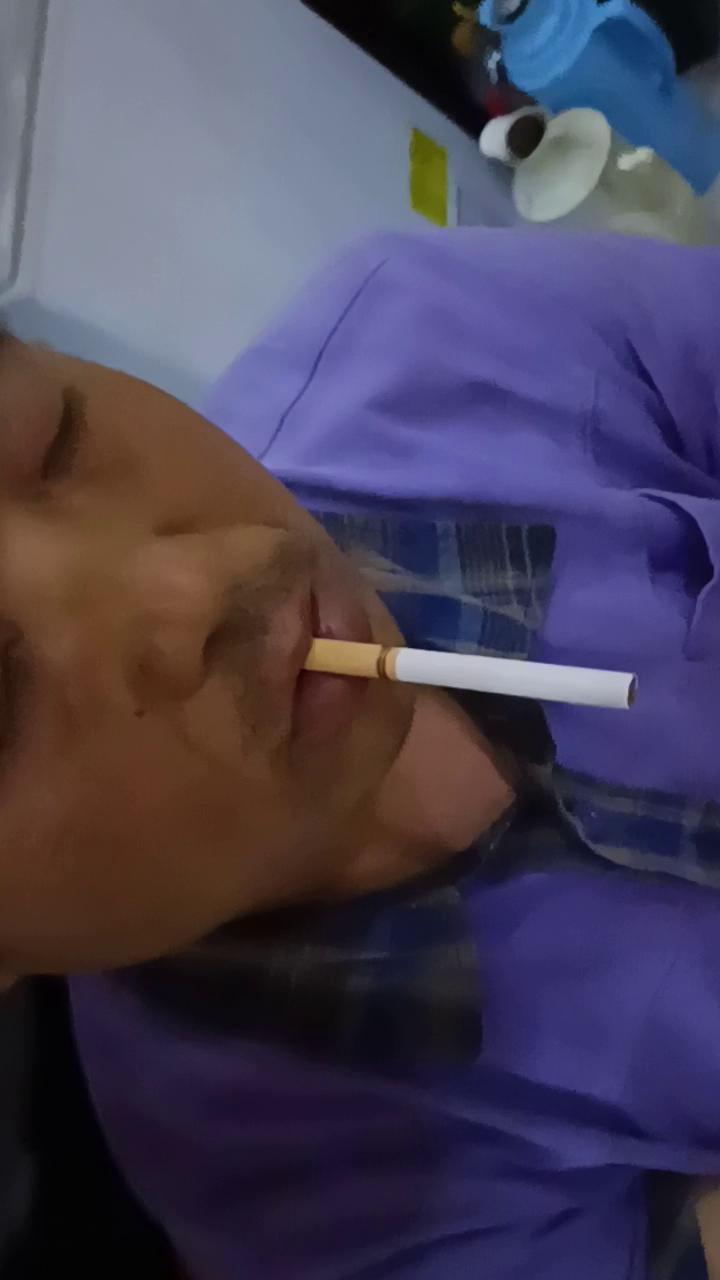smoke: (301, 634, 642, 716)
